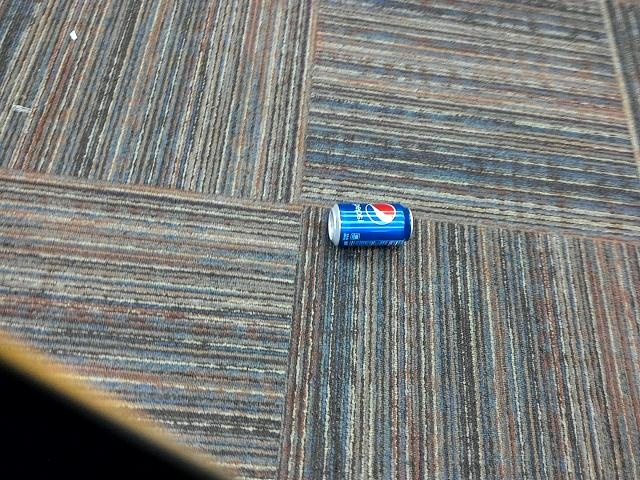can: (319, 191, 421, 254)
